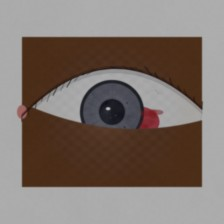hemorrhage_spot: (108, 98, 168, 146)
